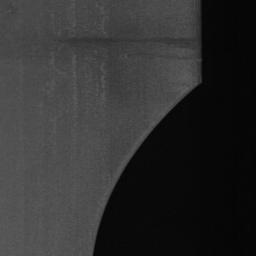Crescent gap: (93, 83, 200, 256)
